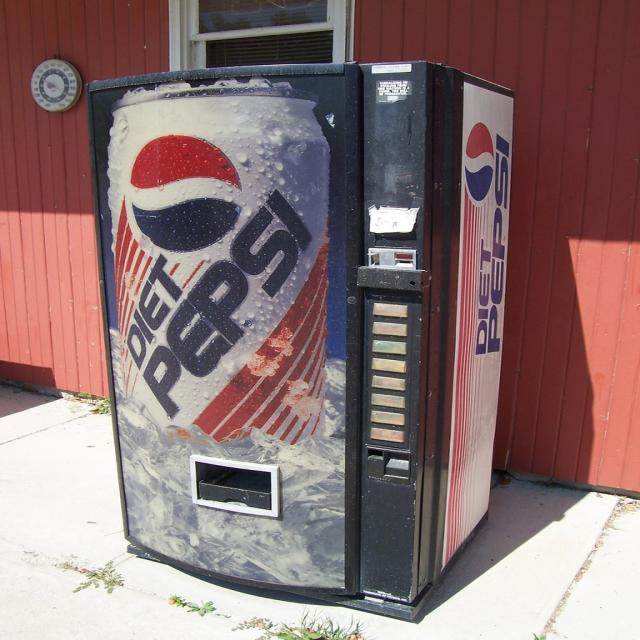pepsi: (124, 133, 245, 253), (460, 123, 499, 202)
